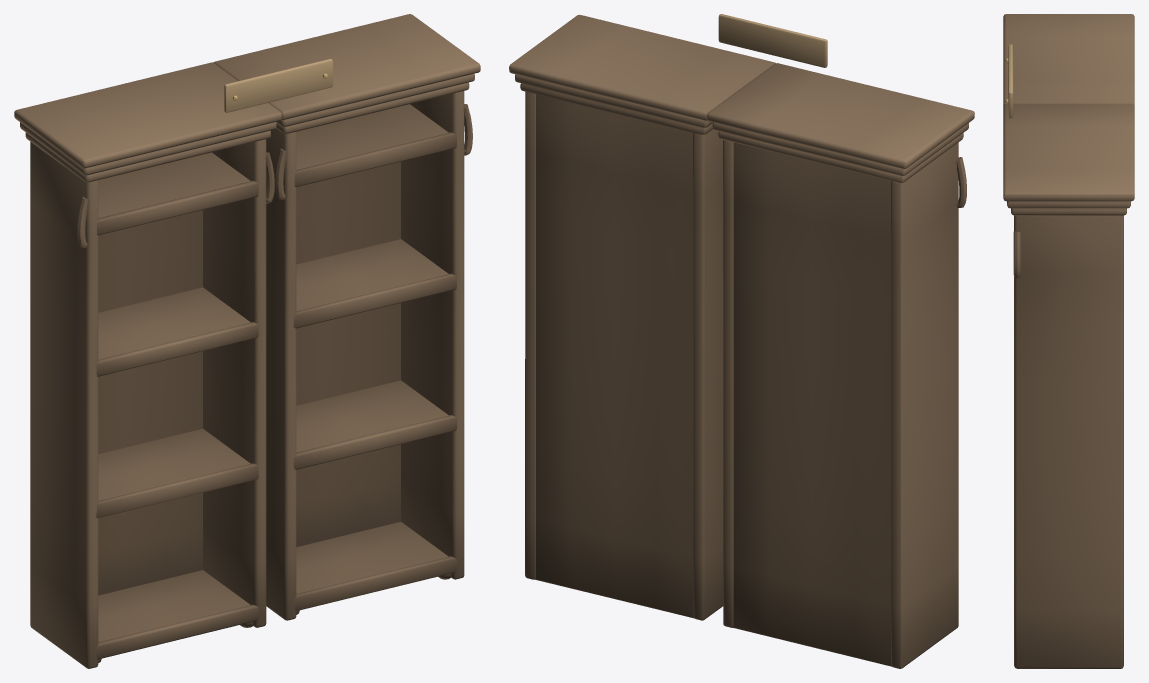
File: obj_kit_shelves.glb
3 views of the same model, side by side, from view 1: azimuth 30°, elevation 25°; view 2: azimuth 150°, elevation 25°; view 3: azimuth 270°, elevation 25° (orthographic). The views are drawn at different scales.
Visible parts, largest first — view 1: Cube.001, Cube, Cube.014, Cube.002, Cube.016, Cube.013, Cube.015, Cube.027, Cube.019, Cube.007, Cube.021, Cube.003 (+17 smaller); view 2: Cube, Cube.014, Cube.001, Cube.013, Cube.027, Cube.015, Cube.016, Cube.002, Cube.028, Cube.012, Cube.011, Cube.026 (+1 smaller); view 3: Cube.016, Cube.027, Cube.013, Cube.026, Cube.025, Cube.028, bracket.003.
Boxes of the visible parts, x1,y1,x2,y2 form: Cube.001: [30, 142, 98, 668]; Cube: [98, 210, 202, 595]; Cube.014: [296, 161, 400, 546]; Cube.002: [203, 139, 266, 627]; Cube.016: [401, 91, 464, 579]; Cube.013: [14, 62, 282, 168]; Cube.015: [266, 128, 296, 620]; Cube.027: [213, 14, 480, 119]; Cube.019: [296, 380, 448, 452]; Cube.007: [98, 287, 250, 359]; Cube.021: [296, 239, 448, 311]; Cube.003: [98, 570, 250, 642]; Cube: [733, 142, 891, 666]; Cube.014: [535, 94, 693, 618]; Cube.001: [891, 142, 958, 668]; Cube.013: [707, 63, 974, 168]; Cube.027: [509, 14, 775, 120]; Cube.015: [693, 129, 723, 620]; Cube.016: [525, 91, 535, 579]; Cube.002: [723, 140, 733, 627]; Cube.028: [718, 14, 827, 67]; Cube.012: [712, 122, 968, 175]; Cube.011: [718, 131, 963, 182]; Cube.026: [515, 74, 712, 127]; Cube.016: [1014, 215, 1123, 668]; Cube.027: [1003, 104, 1134, 201]; Cube.013: [1003, 14, 1134, 105]; Cube.026: [1007, 201, 1130, 208]; Cube.025: [1011, 208, 1126, 215]; Cube.028: [1008, 44, 1013, 118]; bracket.003: [1013, 231, 1021, 278].
Size of the model in its own units: 1.33 by 1.78 by 0.408.
